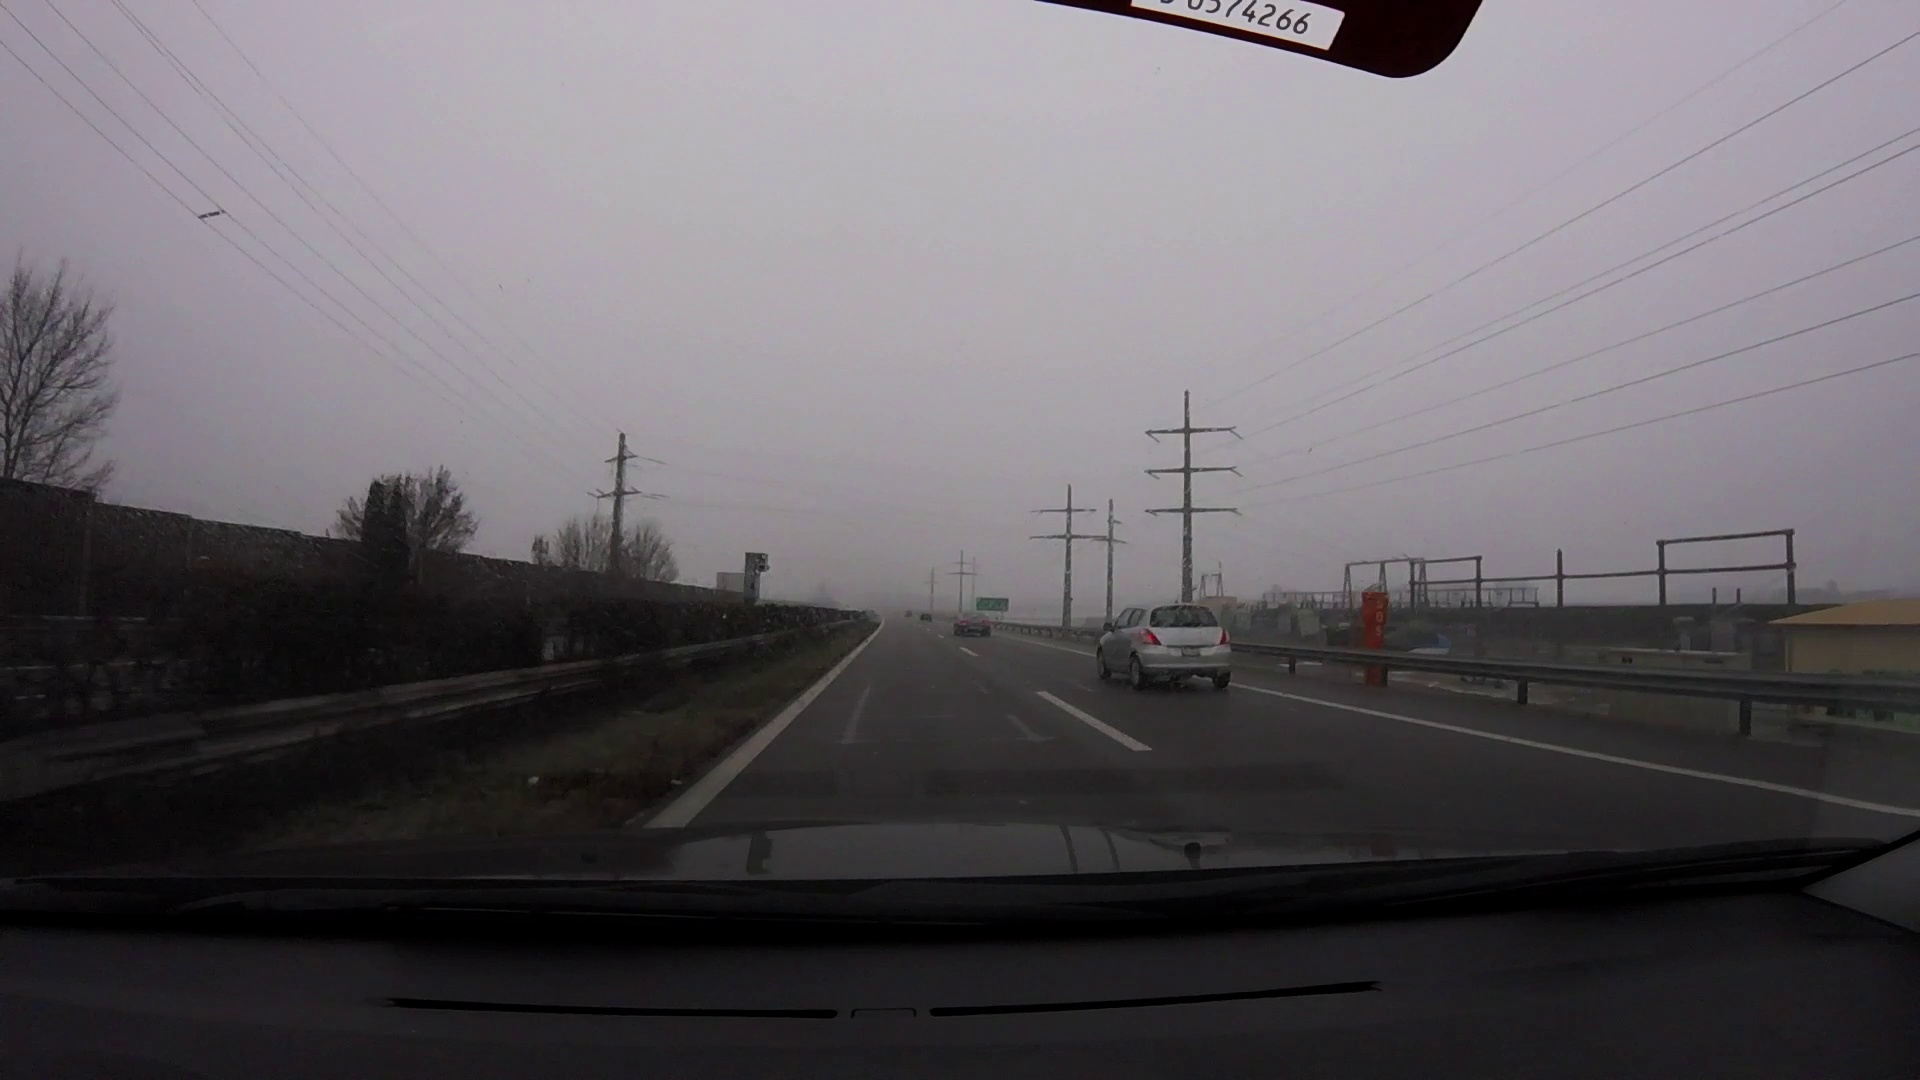radar: (741, 550, 774, 609)
